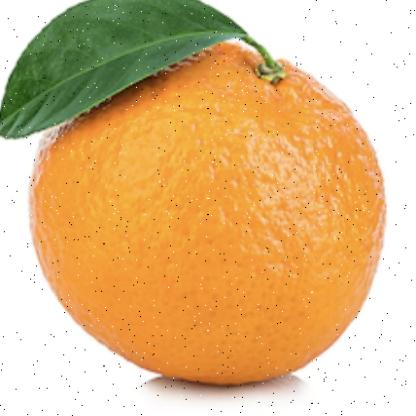fresh: (29, 30, 387, 386)
